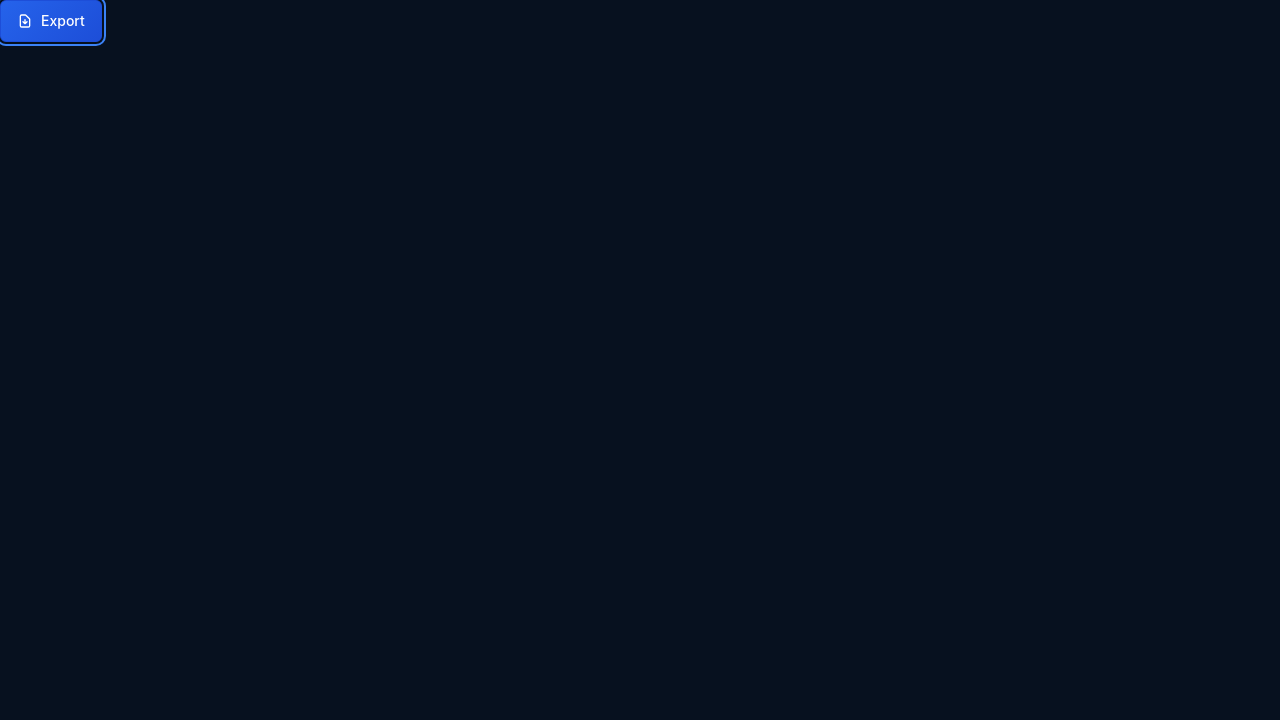
Test case: CheatSheetExport › Accessibility › supports keyboard navigation
Note: Press Enter to open modal
Press Enter
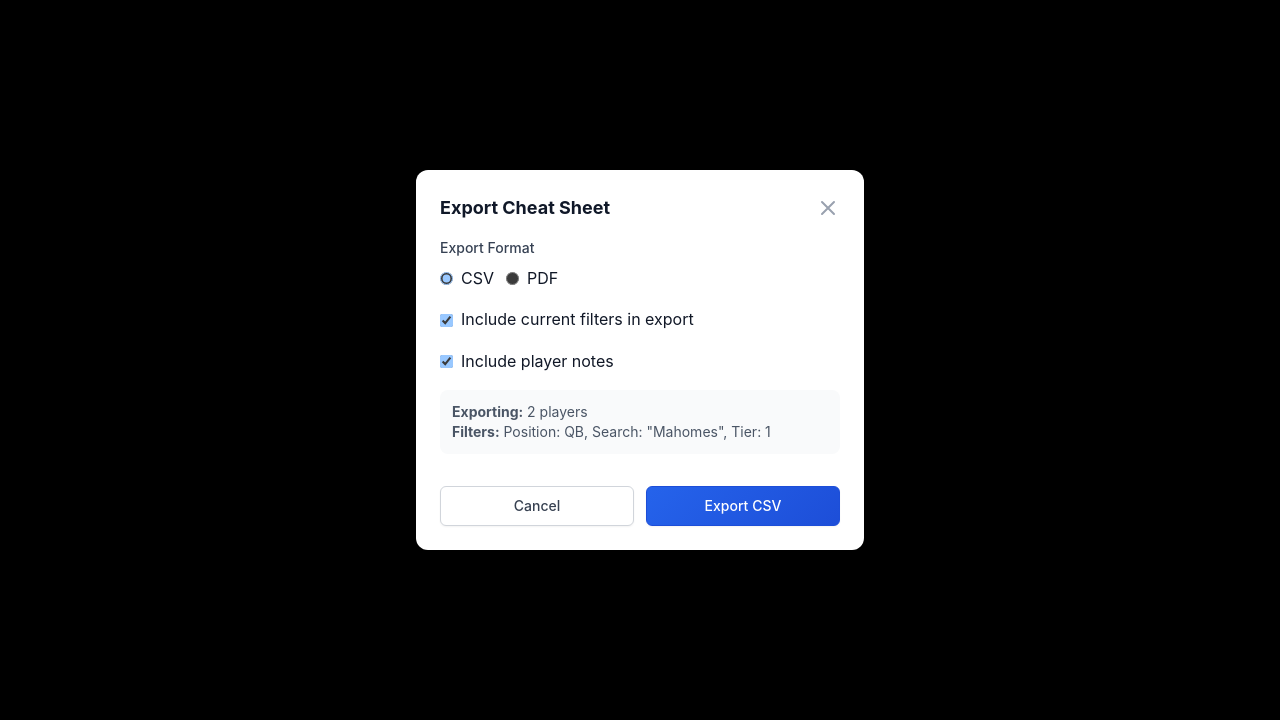
Now the heading "Export Cheat Sheet" is shown, box [440, 194, 610, 222]
Note: Test that the modal can be closed by clicking the close button instead
Click the button named "Close export dialog".
click(828, 208)  # box [816, 196, 840, 220]
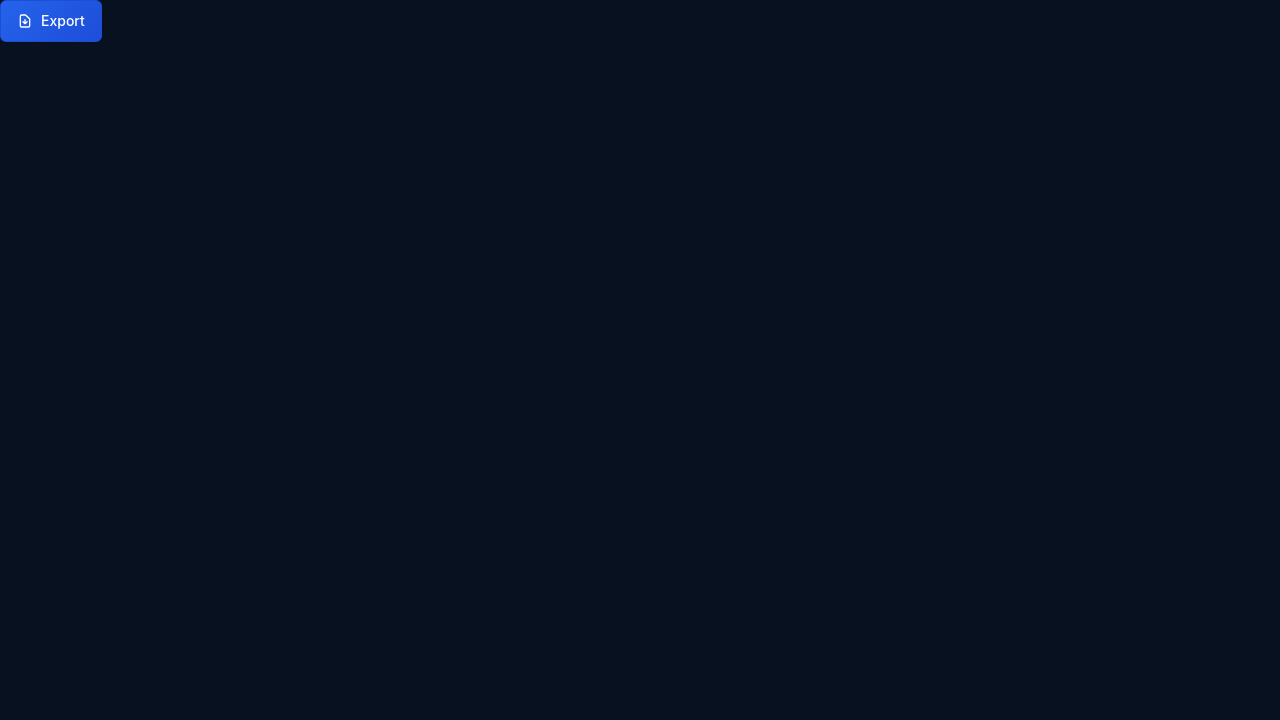
Now the heading "Export Cheat Sheet" is gone
